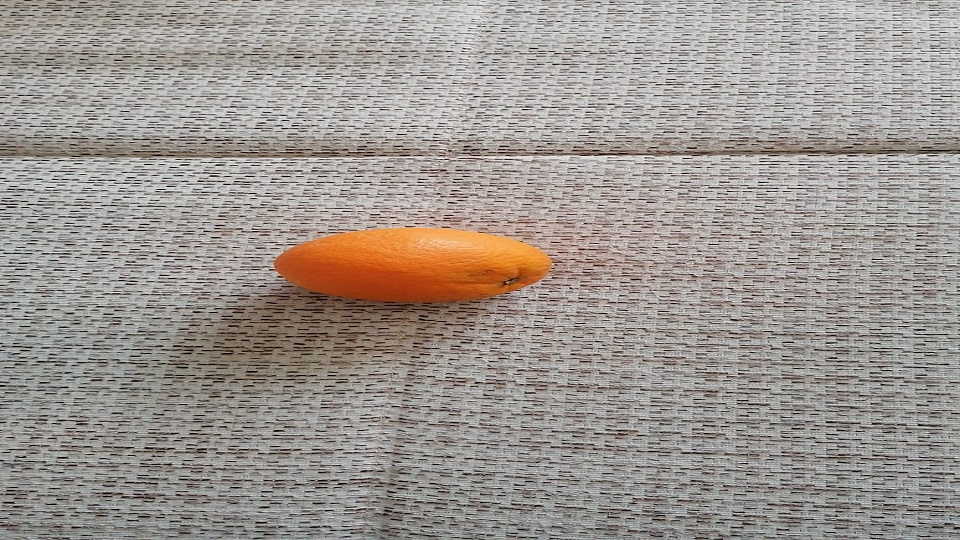portakal: (272, 226, 555, 304)
